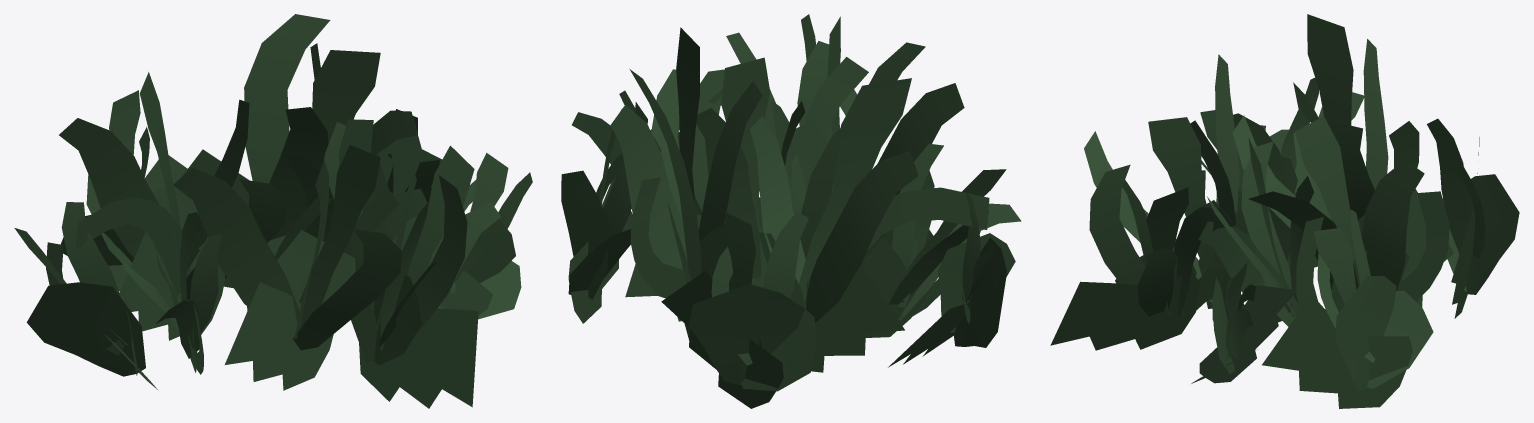
Rendered from SM_ocean_scatterPlant_03_E.fbx.
3 views of the same model, side by side, from view 1: azimuth 30°, elevation 25°; view 2: azimuth 150°, elevation 25°; view 3: azimuth 270°, elevation 25° (orthographic). The views are drawn at different scales.
Parts seen in each view (by area): view 1: SM_ocean_scatterPlant_03_E_LOD0; view 2: SM_ocean_scatterPlant_03_E_LOD0; view 3: SM_ocean_scatterPlant_03_E_LOD0.
Boxes of the visible parts, x1,y1,x2,y2 form: SM_ocean_scatterPlant_03_E_LOD0: (14,14,532,408); SM_ocean_scatterPlant_03_E_LOD0: (561,14,1021,408); SM_ocean_scatterPlant_03_E_LOD0: (1050,14,1519,408).
Size of what is drawn, in the model's own units: 19.31 by 18.18 by 11.65.
